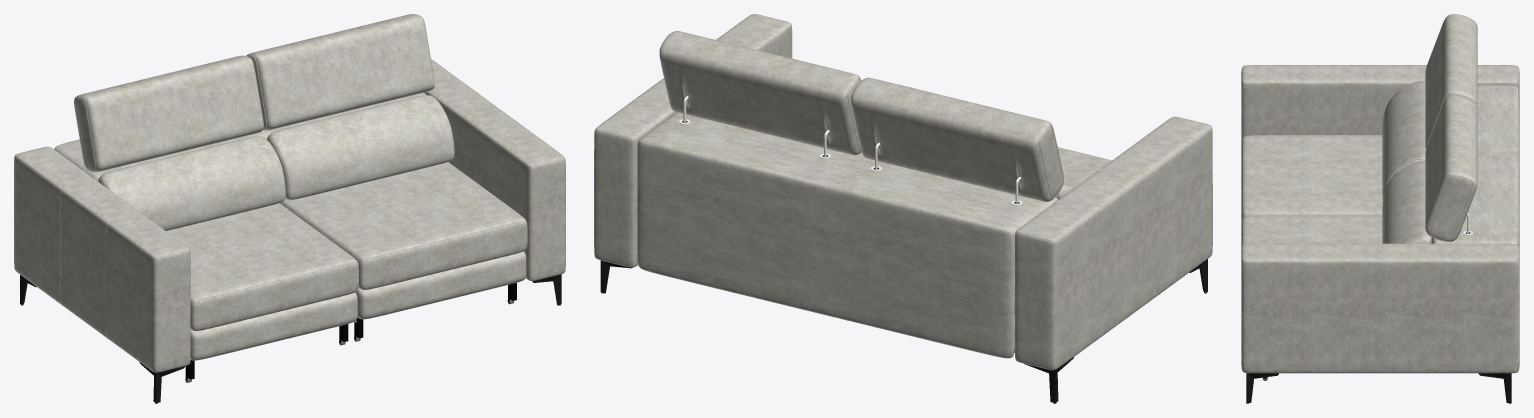
File: 2arm2seats.glb
3 renders of one model, left to right at view 1: azimuth 30°, elevation 25°; view 2: azimuth 150°, elevation 25°; view 3: azimuth 270°, elevation 25°, orthographic. The views are drawn at different scales.
Parts seen in each view (by area): view 1: object 2, Pé jarama, object 3; view 2: object 2, Pé jarama, object 4; view 3: object 2, Pé jarama.
Boxes of the visible parts, box(x1,y1,x2,y2) form: object 2: box(14, 14, 565, 372); Pé jarama: box(20, 274, 561, 403); object 3: box(185, 283, 516, 380); object 2: box(594, 14, 1212, 370); Pé jarama: box(600, 259, 1207, 403); object 4: box(679, 95, 1022, 205); object 2: box(1241, 14, 1519, 373); Pé jarama: box(1246, 373, 1511, 403).
Bounding box in the file's own units: 1.84 × 0.9365 × 1.1.
Materials: 5 (1 with a texture image).
